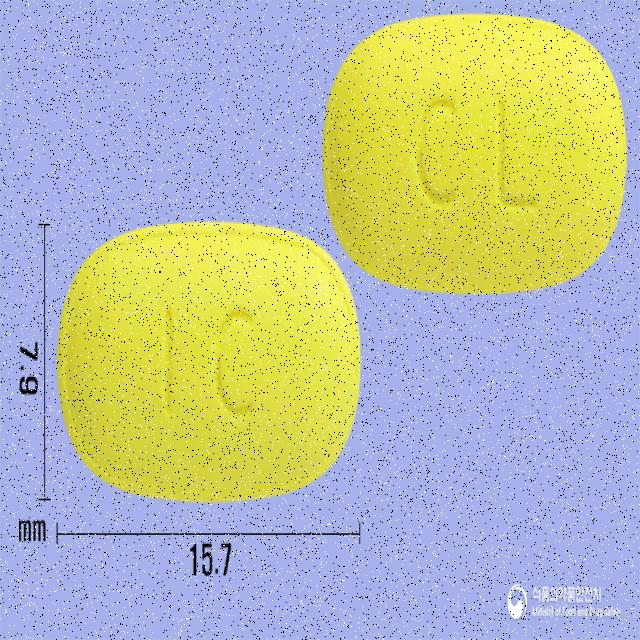Clocin Film Coated Tab: (55, 220, 361, 503), (323, 14, 628, 294)
